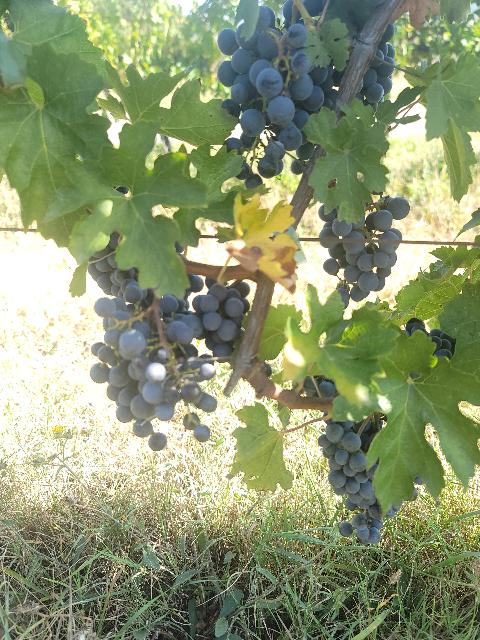grapes: (90, 279, 232, 450), (218, 6, 338, 151), (319, 196, 410, 304), (318, 421, 381, 518), (192, 282, 249, 358)
